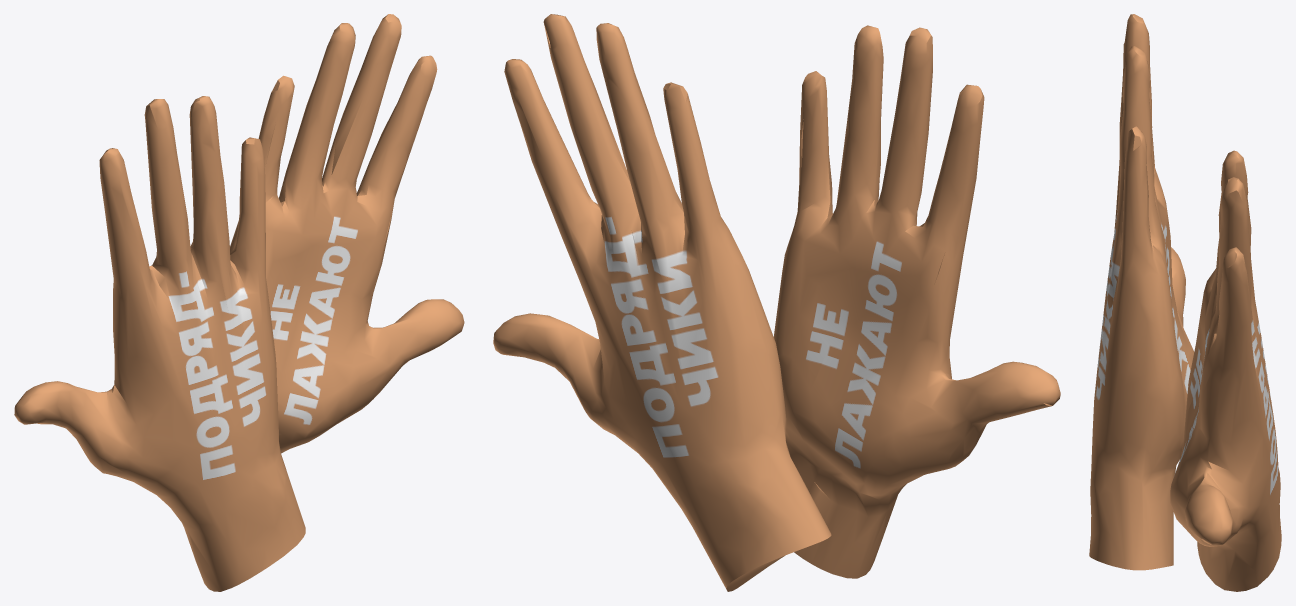
File: Hands.fbx
The picture shows the model from 3 angles, left to right: view 1: azimuth 30°, elevation 25°; view 2: azimuth 150°, elevation 25°; view 3: azimuth 270°, elevation 25°; orthographic projection. The views are drawn at different scales.
Visible parts, largest first — view 1: Hand_2; view 2: Hand_2; view 3: Hand_2.
Boxes of the visible parts, box(x1,y1,x2,y2) form: Hand_2: box(14, 14, 464, 591); Hand_2: box(493, 14, 1060, 591); Hand_2: box(1089, 14, 1281, 591).
Bounding box in the file's own units: 10.63 × 10.75 × 3.57.
1 material, 1 textured.
